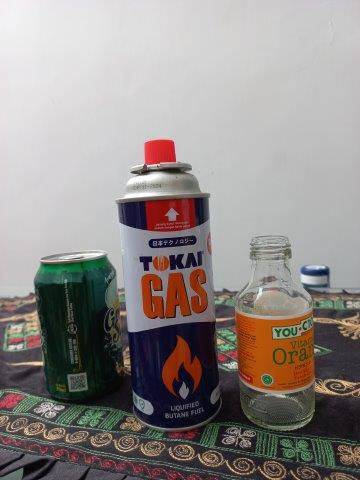botolkaca: (235, 235, 317, 430)
kaleng: (116, 140, 221, 430), (36, 249, 119, 402)
